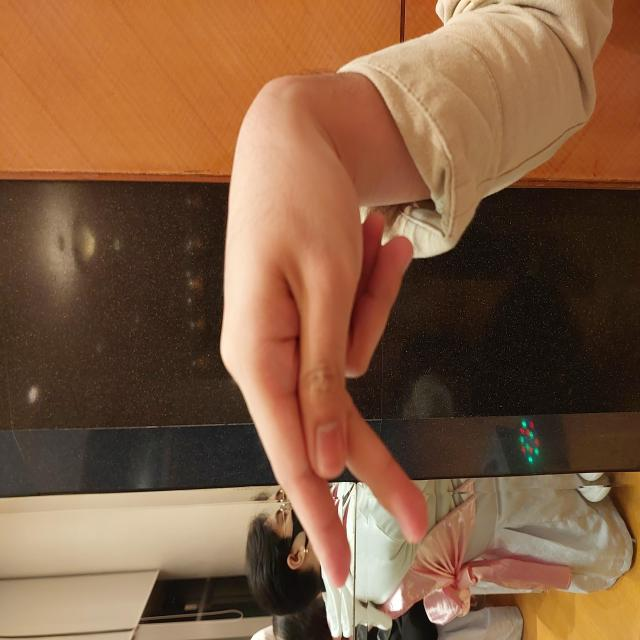P: (47, 217, 555, 430)
